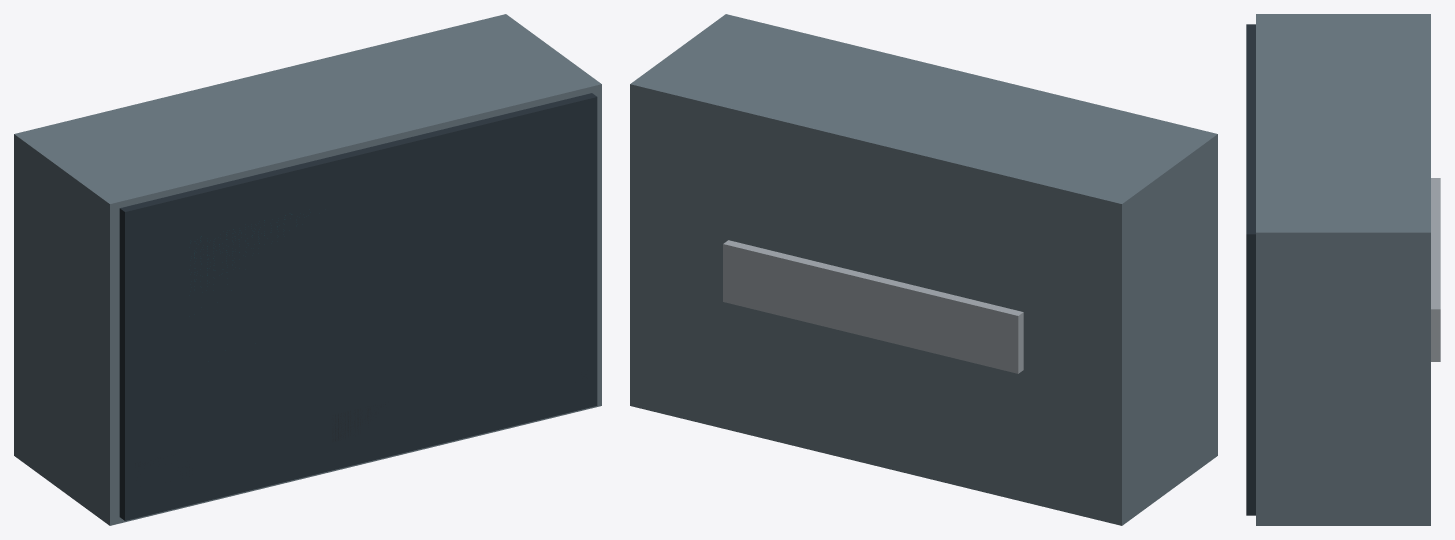
3 renders of one model, left to right at view 1: azimuth 30°, elevation 25°; view 2: azimuth 150°, elevation 25°; view 3: azimuth 270°, elevation 25°, orthographic. The views are drawn at different scales.
Parts seen in each view (by area): view 1: Bezel, Body; view 2: Body, RearMount; view 3: Body, Bezel, RearMount.
Part boxes in pixels (x1,y1,x2,y2): Bezel: (119, 93, 597, 520); Body: (14, 14, 601, 525); Body: (630, 14, 1217, 525); RearMount: (723, 240, 1023, 373); Body: (1256, 14, 1430, 525); Bezel: (1246, 24, 1255, 515); RearMount: (1431, 178, 1440, 361).
Size of the model in its own units: 0.16 by 0.1 by 0.06.
